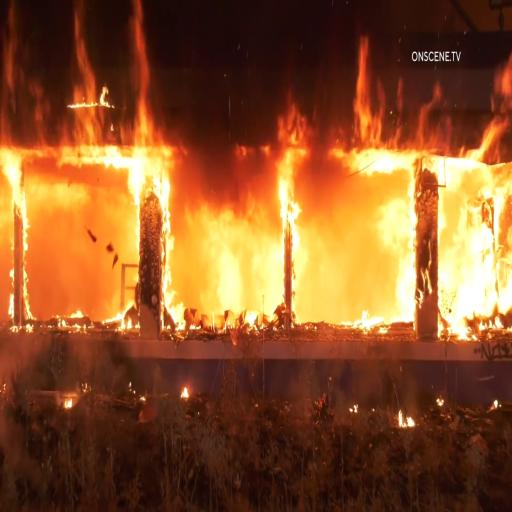fire: (27, 9, 140, 312), (290, 48, 401, 328), (165, 145, 278, 322), (447, 152, 507, 326)
